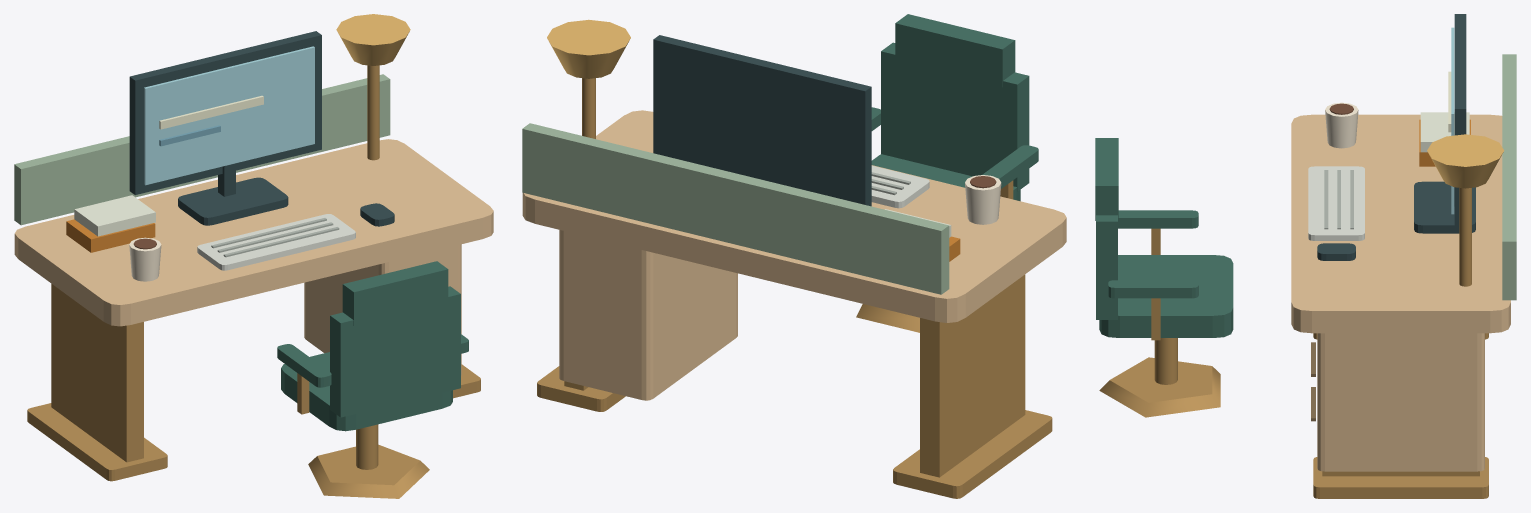
File: desk-signature.glb
The picture shows the model from 3 angles, left to right: view 1: azimuth 30°, elevation 25°; view 2: azimuth 150°, elevation 25°; view 3: azimuth 270°, elevation 25°; orthographic projection. The views are drawn at different scales.
Parts seen in each view (by area): view 1: desk-signature; view 2: desk-signature; view 3: desk-signature.
Boxes of the visible parts, left/top/right/bottom form: desk-signature: left=14, top=14, right=493, bottom=498; desk-signature: left=522, top=14, right=1066, bottom=498; desk-signature: left=1095, top=14, right=1516, bottom=498.
Size of the model in its own units: 1.8 by 1.47 by 1.63.
